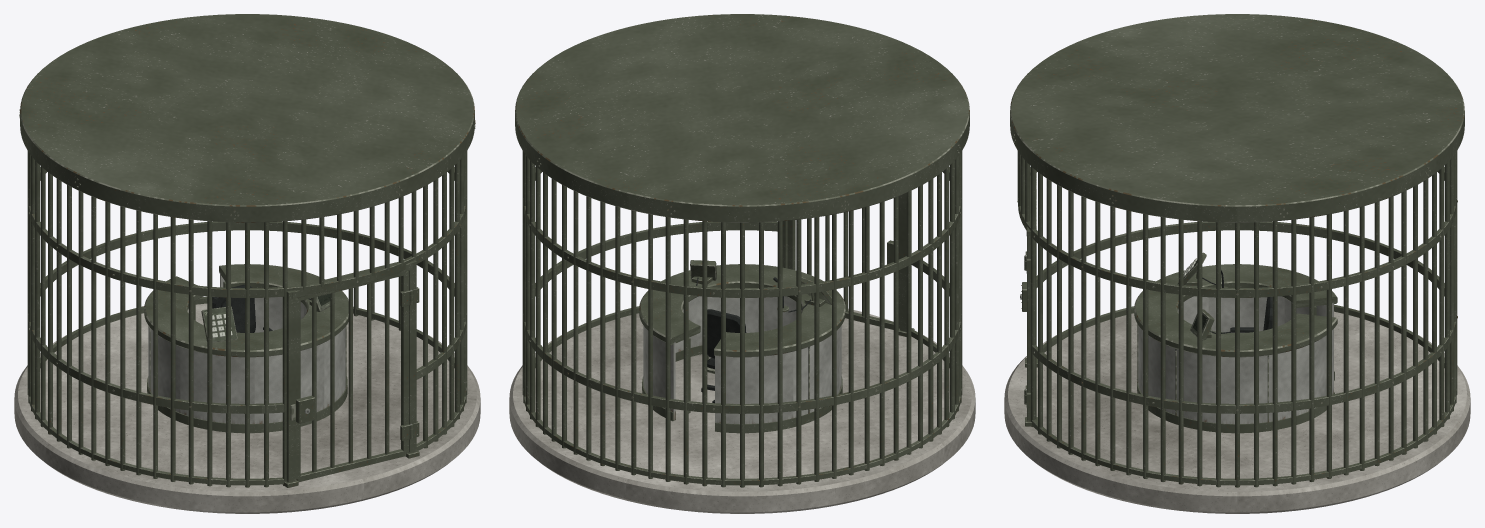
The model's file is caged_control_booth.glb.
The picture shows the model from 3 angles, left to right: view 1: azimuth 30°, elevation 25°; view 2: azimuth 150°, elevation 25°; view 3: azimuth 270°, elevation 25°; orthographic projection.
Visible parts, largest first — view 1: Roof_Cap, Cage_Bars, Foundation_Concrete, Control_Desk, Cage_Bands_and_Fasteners, Gate_Hinge, Door_Frame, Control_Equipment, Operator_Chair; view 2: Roof_Cap, Cage_Bars, Foundation_Concrete, Control_Desk, Cage_Bands_and_Fasteners, Gate_Hinge, Door_Frame, Operator_Chair, Control_Equipment; view 3: Roof_Cap, Cage_Bars, Foundation_Concrete, Control_Desk, Cage_Bands_and_Fasteners, Door_Frame, Control_Equipment.
Part boxes in pixels (x1=…): Roof_Cap: x1=19, y1=14, x2=475, y2=222; Cage_Bars: x1=27, y1=151, x2=467, y2=487; Foundation_Concrete: x1=14, y1=303, x2=480, y2=513; Control_Desk: x1=144, y1=264, x2=348, y2=433; Cage_Bands_and_Fasteners: x1=28, y1=167, x2=466, y2=485; Gate_Hinge: x1=295, y1=271, x2=413, y2=481; Door_Frame: x1=283, y1=260, x2=419, y2=487; Control_Equipment: x1=201, y1=293, x2=334, y2=342; Operator_Chair: x1=212, y1=284, x2=272, y2=332; Roof_Cap: x1=515, y1=14, x2=969, y2=222; Cage_Bars: x1=522, y1=151, x2=962, y2=487; Foundation_Concrete: x1=509, y1=308, x2=975, y2=513; Control_Desk: x1=639, y1=264, x2=845, y2=433; Cage_Bands_and_Fasteners: x1=523, y1=167, x2=961, y2=485; Gate_Hinge: x1=787, y1=196, x2=899, y2=329; Door_Frame: x1=782, y1=191, x2=914, y2=336; Operator_Chair: x1=701, y1=309, x2=746, y2=403; Control_Equipment: x1=690, y1=260, x2=831, y2=312; Roof_Cap: x1=1010, y1=14, x2=1464, y2=222; Cage_Bars: x1=1017, y1=151, x2=1457, y2=487; Foundation_Concrete: x1=1004, y1=311, x2=1470, y2=513; Control_Desk: x1=1134, y1=264, x2=1337, y2=433; Cage_Bands_and_Fasteners: x1=1017, y1=167, x2=1457, y2=485; Door_Frame: x1=1024, y1=170, x2=1037, y2=426; Control_Equipment: x1=1177, y1=252, x2=1231, y2=340.
Size of the model in its own units: 4.76 by 3.46 by 4.76.
Materials: 1 (1 with a texture image).
